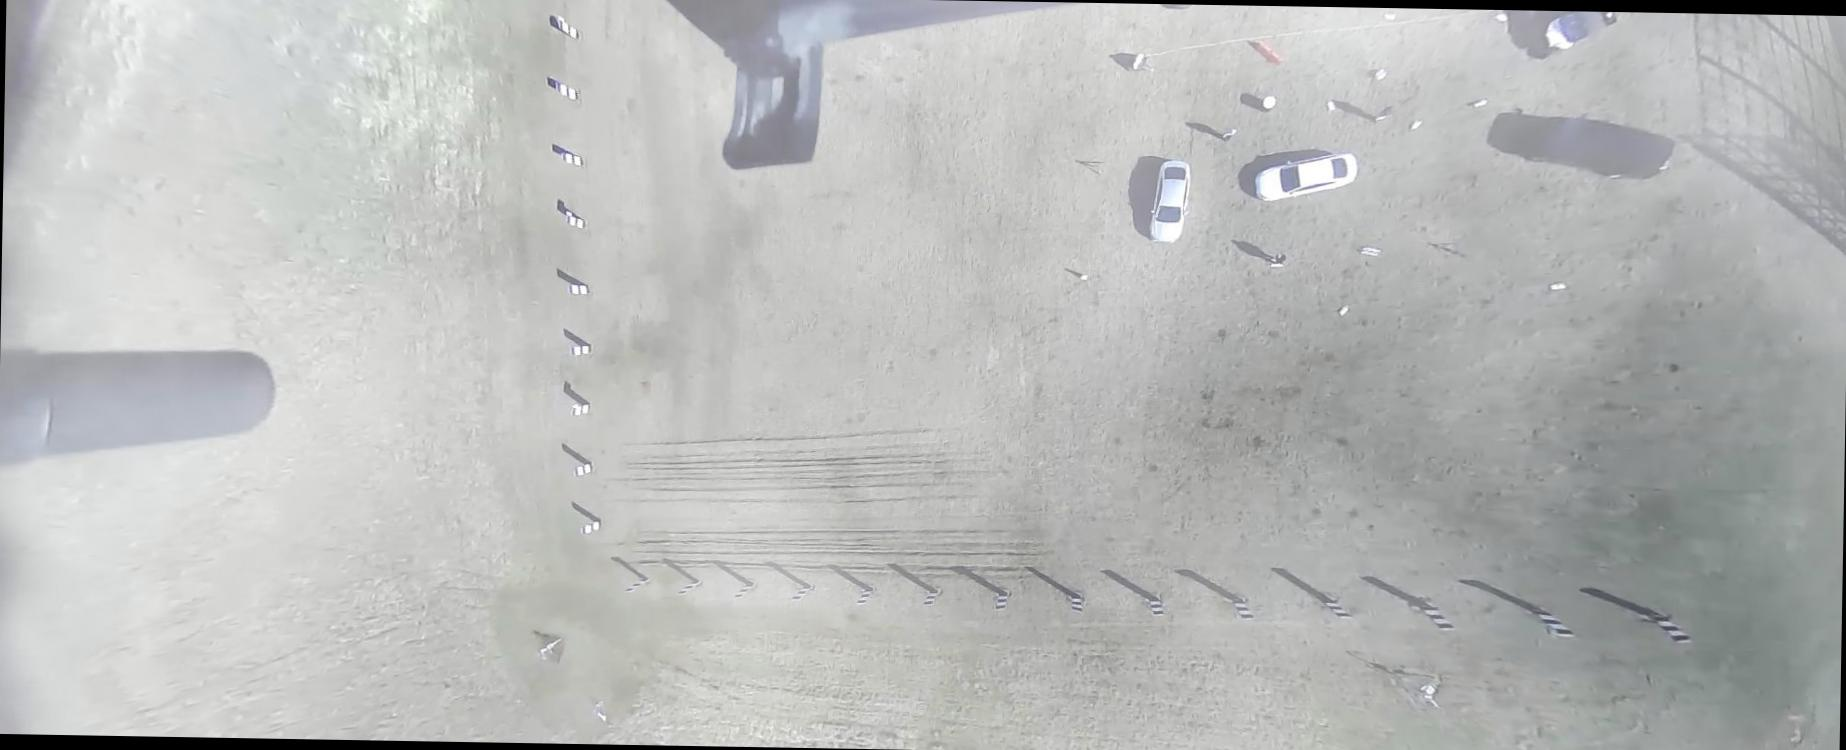vehicle: (1532, 111, 1676, 180), (1255, 150, 1359, 202), (1150, 159, 1192, 243), (1541, 11, 1620, 54)
